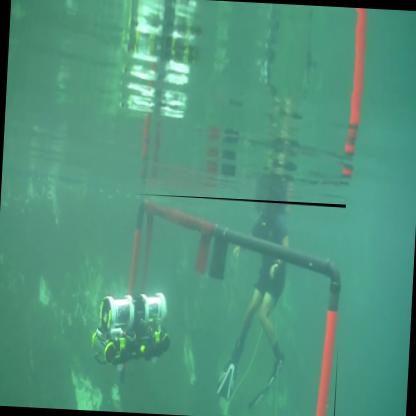gate: (122, 194, 349, 416)
